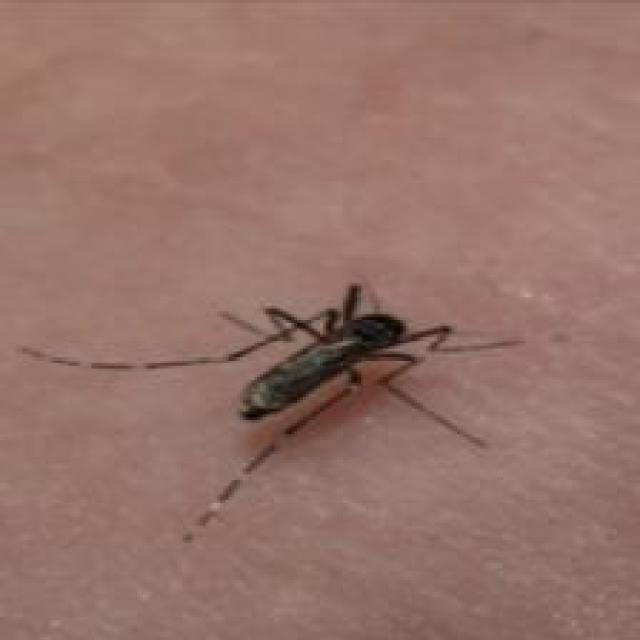Aedes albopictus: (17, 280, 526, 543)
